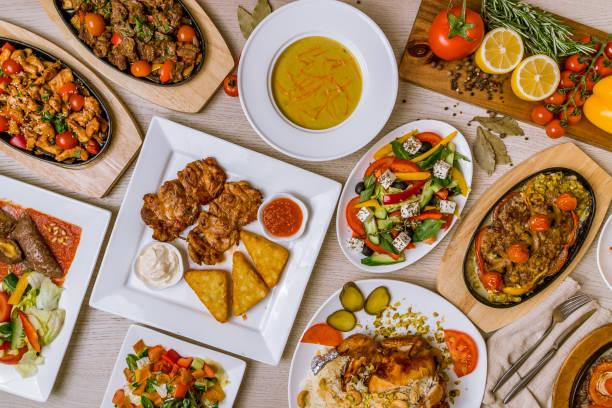Braised Crucian Carp: (88, 116, 331, 363), (396, 0, 609, 167), (436, 142, 608, 332), (2, 165, 112, 402), (236, 1, 394, 164), (290, 278, 486, 406), (338, 121, 470, 273), (1, 29, 117, 175), (47, 1, 227, 89), (95, 325, 247, 406)
